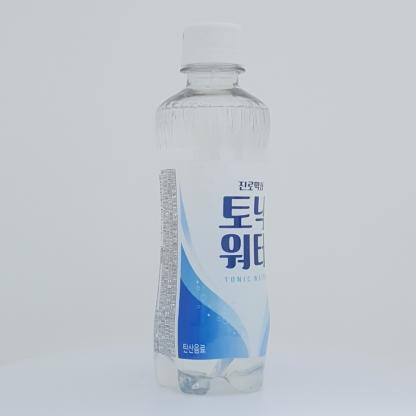----------300ML: (154, 23, 270, 395)
